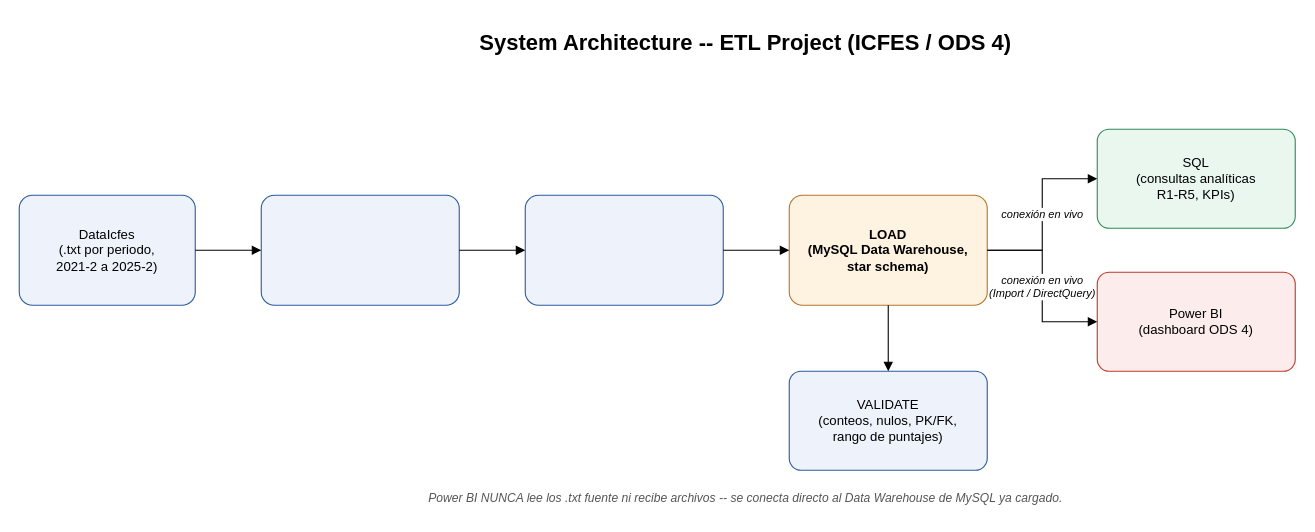
Image size: 1315x532. Some labels were removed from this diagram. Here are the shapes that lost their labels. From the top down, the centre of each, then its label:
the point at 359,249: EXTRACT (detección encoding / separador, por bloques)
the point at 623,249: TRANSFORM (limpieza + armonización + modelo dimensional)
